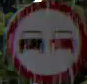No overtake: (3, 2, 84, 83)
